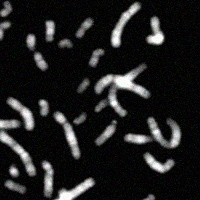chromosome: (109, 63, 147, 117), (0, 130, 36, 175), (111, 1, 141, 47), (53, 110, 80, 159), (94, 75, 149, 99), (147, 116, 180, 148), (49, 177, 94, 200), (26, 33, 48, 71), (8, 97, 33, 130), (143, 153, 174, 173), (94, 120, 117, 146), (146, 16, 164, 45), (42, 160, 53, 197), (76, 17, 94, 38), (93, 99, 116, 113), (124, 134, 153, 144), (4, 180, 25, 193), (89, 49, 104, 67), (0, 21, 11, 41), (58, 188, 75, 200), (45, 20, 54, 42), (76, 78, 89, 93), (0, 1, 12, 16), (0, 119, 20, 128), (73, 113, 86, 125), (38, 98, 47, 115), (58, 39, 73, 49), (9, 163, 19, 177), (135, 193, 155, 200), (0, 0, 3, 7)
